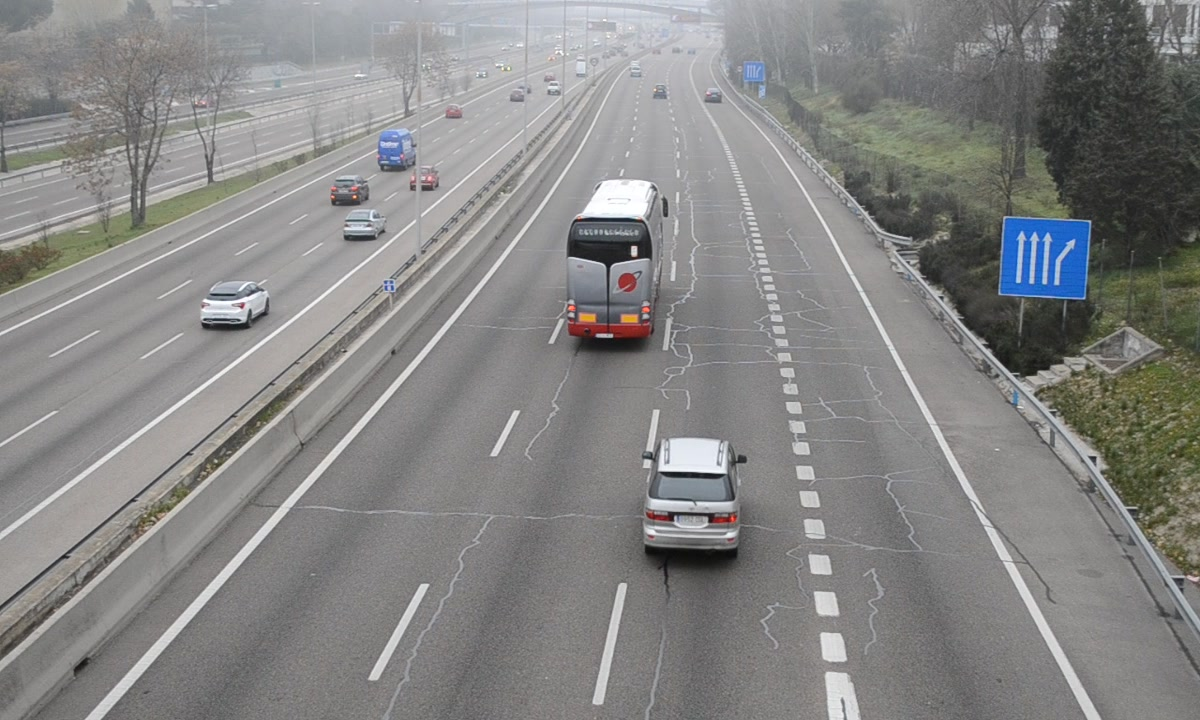bus: (563, 179, 665, 340)
car: (643, 437, 745, 555)
